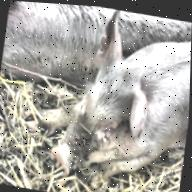boar: (15, 1, 192, 192), (0, 0, 192, 107)
